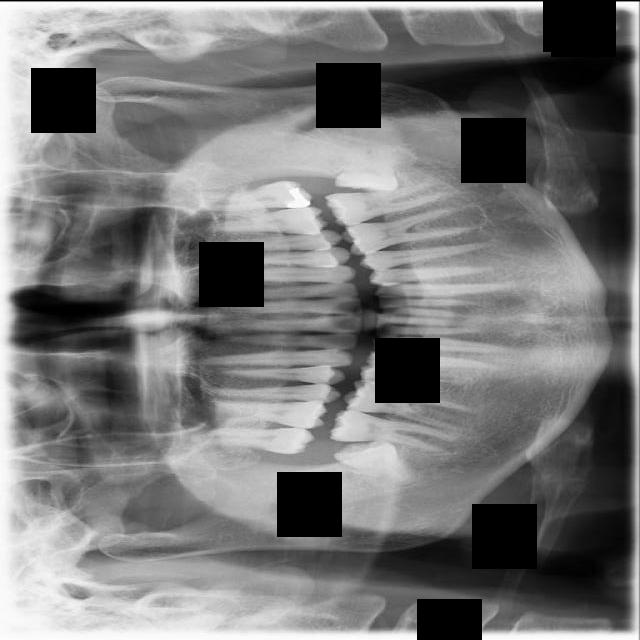52: (251, 179, 314, 208)
73: (571, 23, 581, 32)
BioHorizons Implant: (184, 177, 314, 215)
Biomet 3i Implant: (332, 141, 399, 192)
Blue Sky Bio Implant: (323, 179, 451, 228)
Caries: (187, 425, 315, 457)
Implant: (327, 406, 455, 452)
Keystone Dental Implant: (332, 419, 424, 507)
